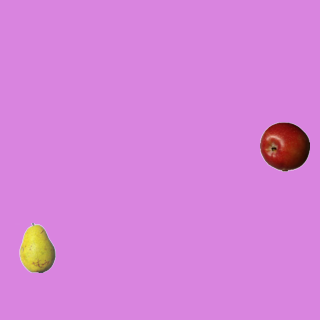Apple Braeburn: (259, 121, 309, 171)
Pear Monster: (12, 222, 62, 272)
